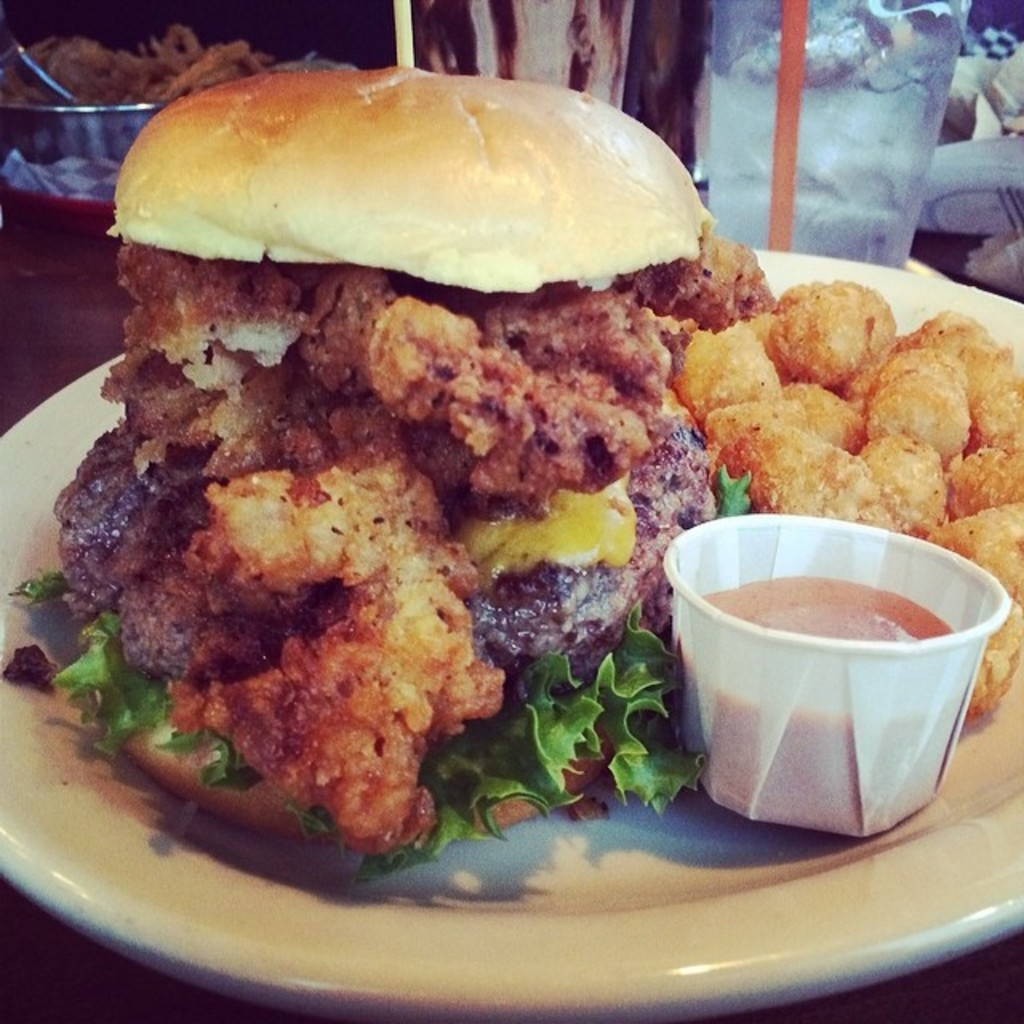Hamburger: (22, 65, 772, 873)
